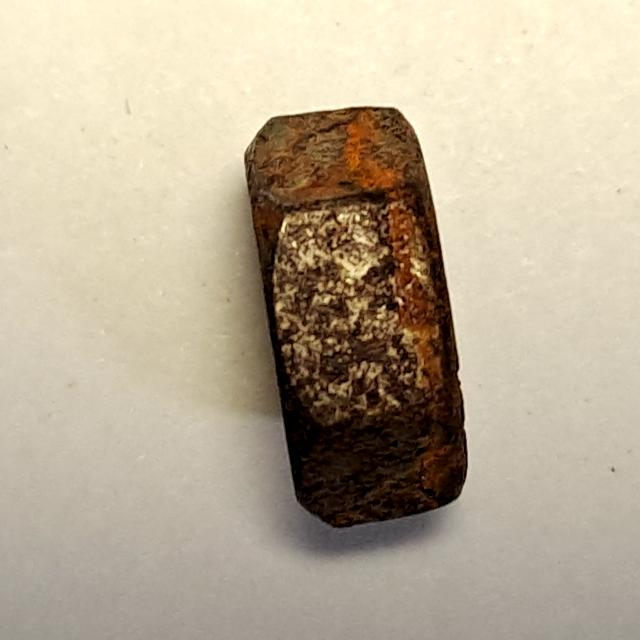Side_Rust: (215, 100, 494, 553)
